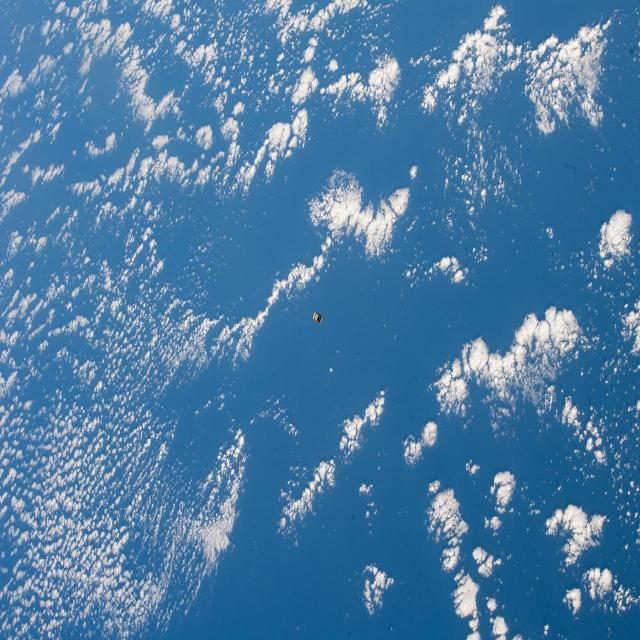satellite: (312, 312, 322, 322)
